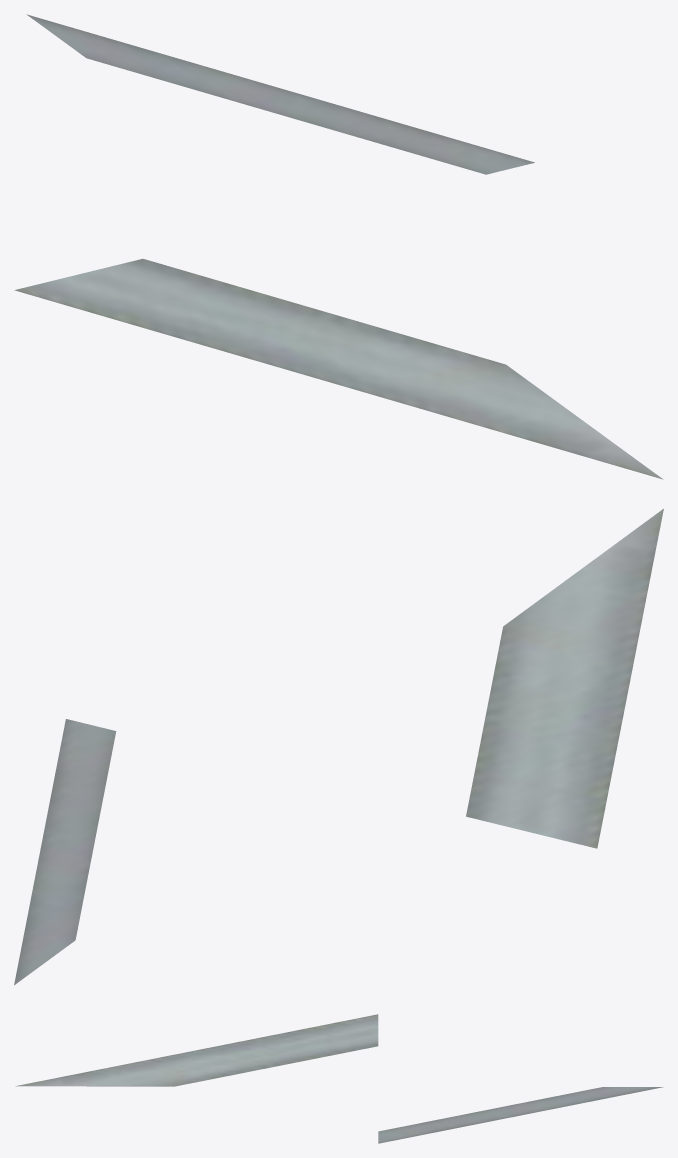
The model's file is LFSB_-1_1.glb.
3 views of the same model, one above another, from view 1: azimuth 30°, elevation 25°; view 2: azimuth 150°, elevation 25°; view 3: azimuth 270°, elevation 25° (orthographic). The views are drawn at different scales.
Parts seen in each view (by area): view 1: pavement_LFSB_pavement_5211_2545, pavement_LFSB_pavement_5212_2546; view 2: pavement_LFSB_pavement_5211_2545, pavement_LFSB_pavement_5212_2546; view 3: pavement_LFSB_pavement_5211_2545, pavement_LFSB_pavement_5212_2546.
Part boxes in pixels (x1,y1,x2,y2): pavement_LFSB_pavement_5211_2545: [14, 258, 663, 479]; pavement_LFSB_pavement_5212_2546: [26, 14, 534, 174]; pavement_LFSB_pavement_5211_2545: [466, 508, 663, 848]; pavement_LFSB_pavement_5212_2546: [14, 719, 116, 985]; pavement_LFSB_pavement_5211_2545: [15, 1014, 378, 1086]; pavement_LFSB_pavement_5212_2546: [378, 1087, 663, 1143].
Bounding box in the file's own units: 268 × 0.6823 × 568.
Materials: 1 (1 with a texture image).
